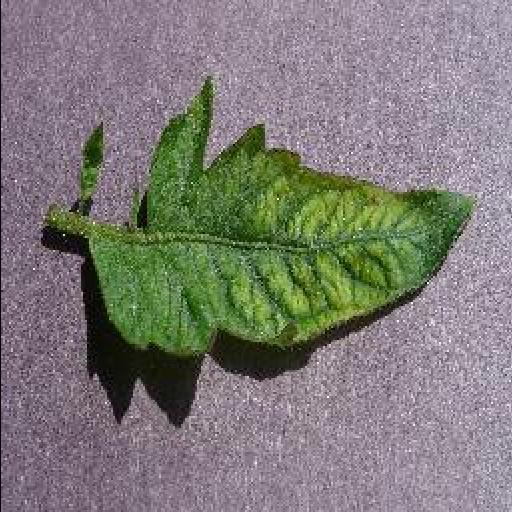disease_tomato: (90, 76, 472, 362)
